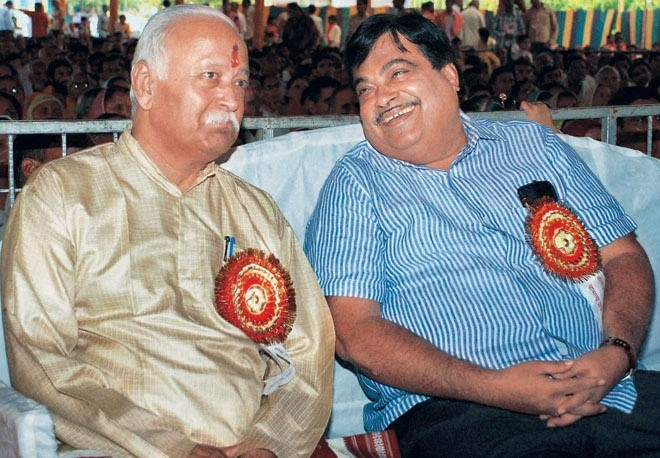face_no_mask: (128, 8, 246, 164), (341, 11, 461, 156)
